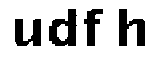d: (47, 7, 80, 52)
f: (83, 7, 106, 51)
h: (115, 6, 146, 51)
u: (13, 15, 44, 48)
